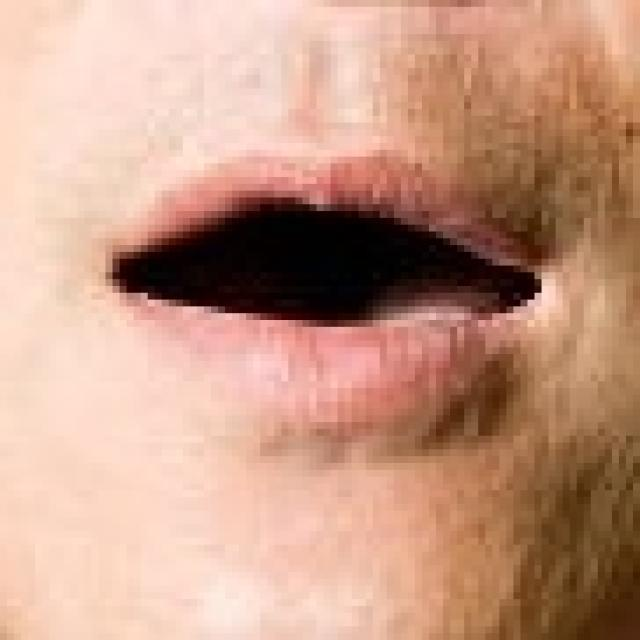open-mouth: (99, 143, 548, 443)
